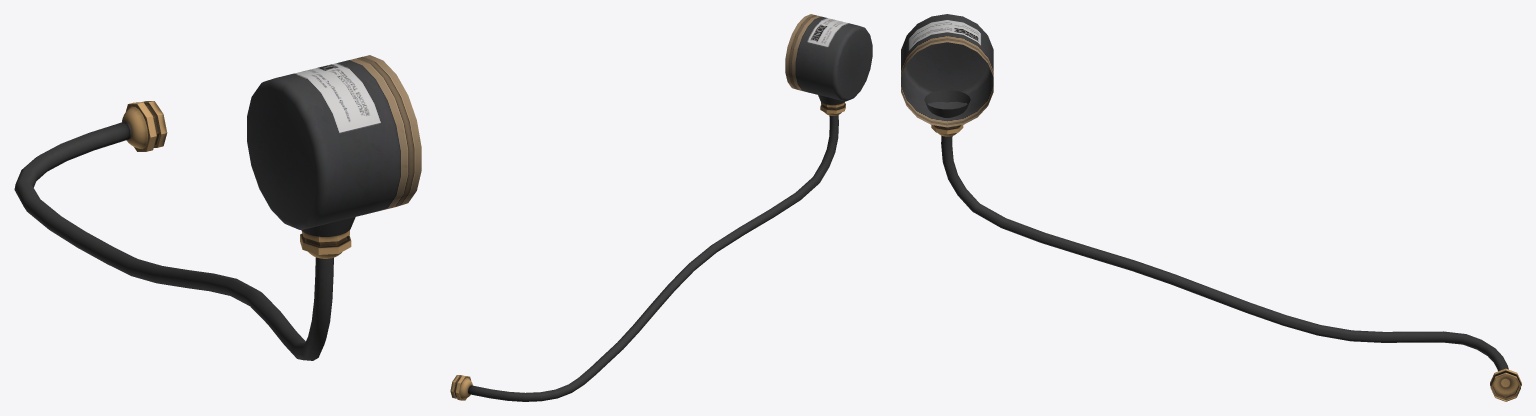
The model's file is Encoder.glb.
3 views of the same model, side by side, from view 1: azimuth 30°, elevation 25°; view 2: azimuth 150°, elevation 25°; view 3: azimuth 270°, elevation 25° (orthographic). The views are drawn at different scales.
Visible parts, largest first — view 1: Encoder; view 2: Encoder; view 3: Encoder.
Boxes of the visible parts, bbox=[...] form: Encoder: bbox=[14, 55, 421, 360]; Encoder: bbox=[450, 14, 872, 401]; Encoder: bbox=[901, 14, 1521, 401].
Size of the model in its own units: 0.0993 by 0.1369 by 0.2641.
1 material, 1 textured.
